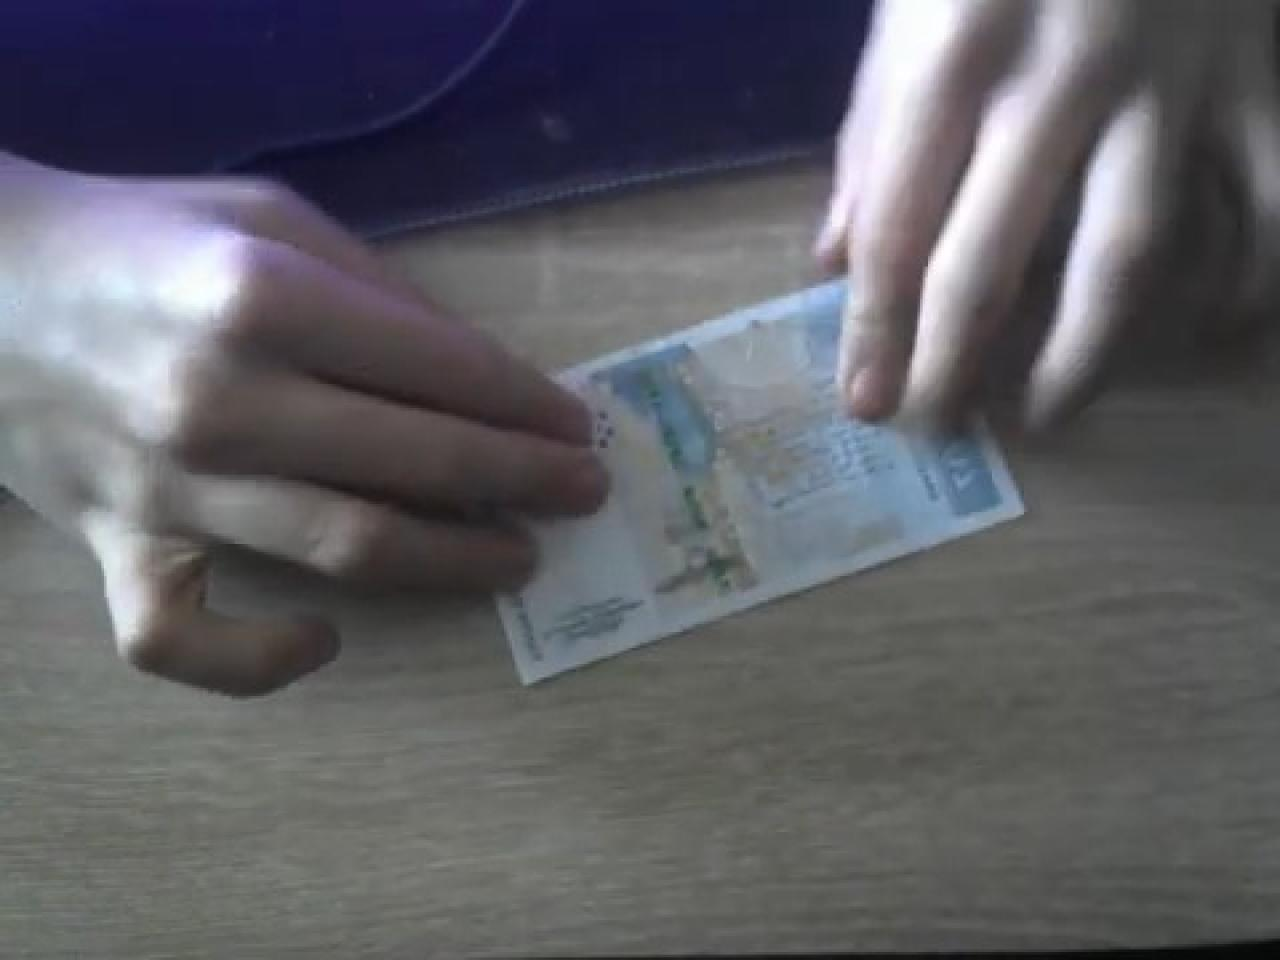20leva: (488, 269, 1029, 688)
